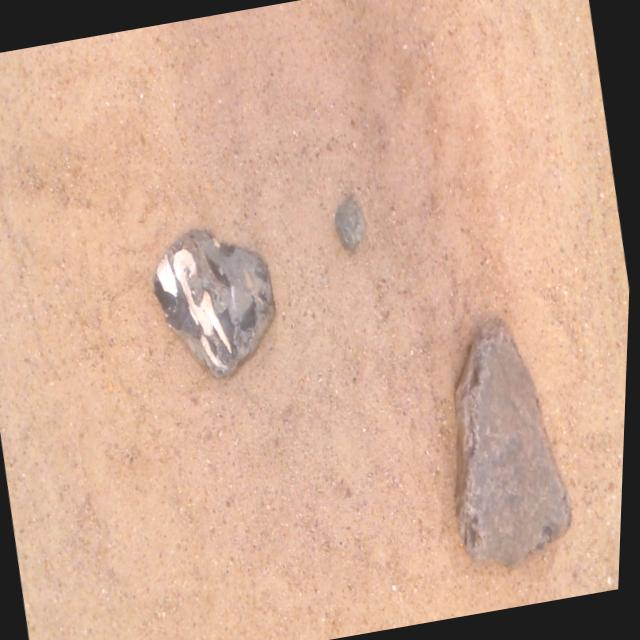rock: (457, 322, 574, 566), (155, 230, 277, 376), (334, 196, 366, 250)
